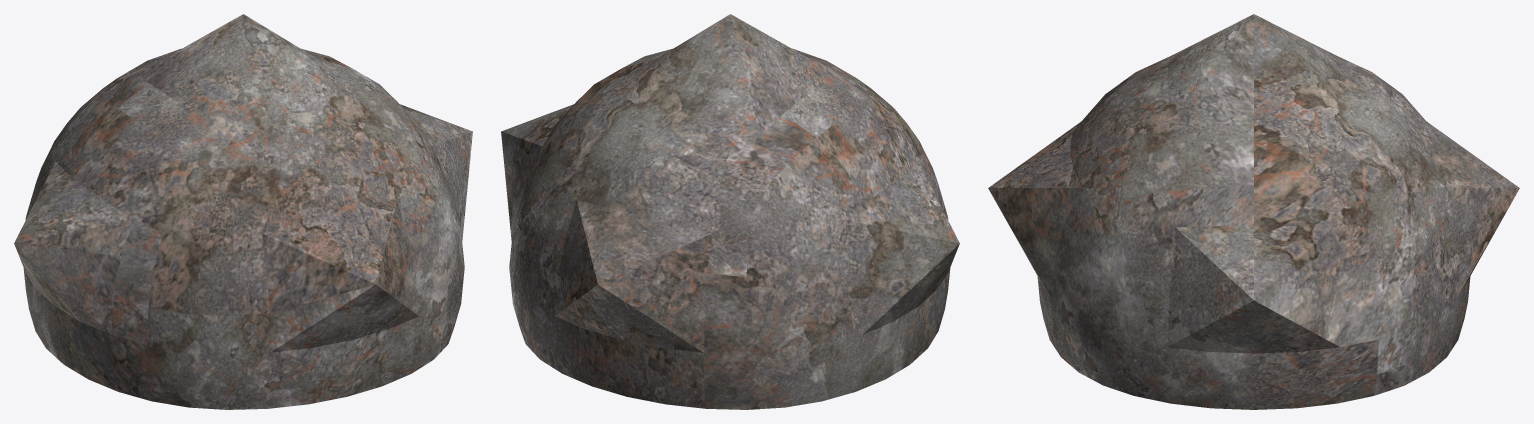
Rendered from minnakZırh.fbx.
3 renders of one model, left to right at view 1: azimuth 30°, elevation 25°; view 2: azimuth 150°, elevation 25°; view 3: azimuth 270°, elevation 25°, orthographic.
Visible parts, largest first — view 1: Cube.005; view 2: Cube.005; view 3: Cube.005.
Part boxes in pixels (left/top/right/bottom): Cube.005: left=14, top=14, right=472, bottom=409; Cube.005: left=501, top=14, right=959, bottom=409; Cube.005: left=988, top=14, right=1519, bottom=409.
Bounding box in the file's own units: 91.3 × 58.35 × 91.3.
1 material, 1 textured.
